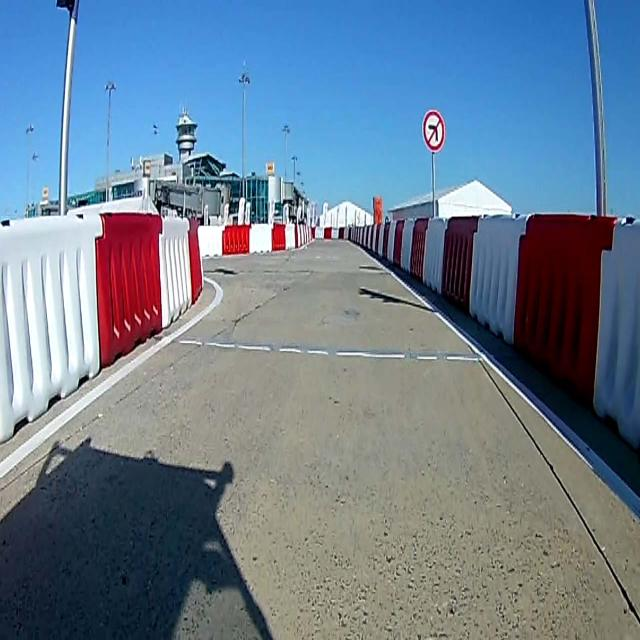soladonulmez: (423, 111, 446, 151)
